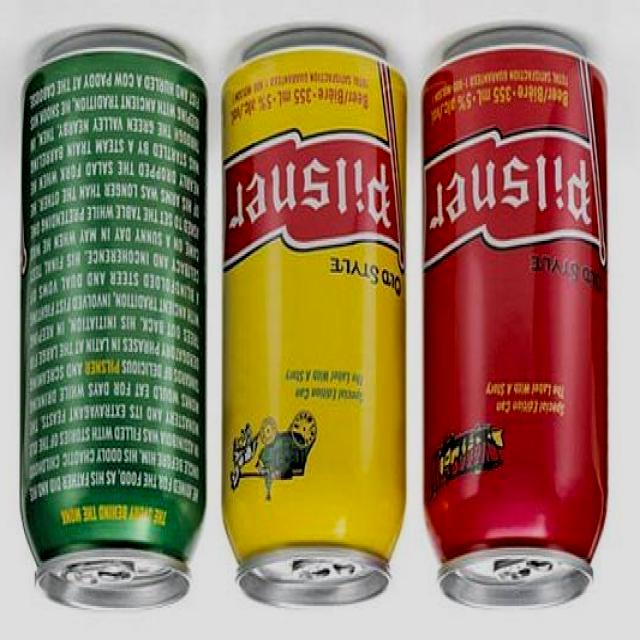can: (21, 32, 206, 608), (422, 29, 606, 606), (222, 36, 406, 606)
